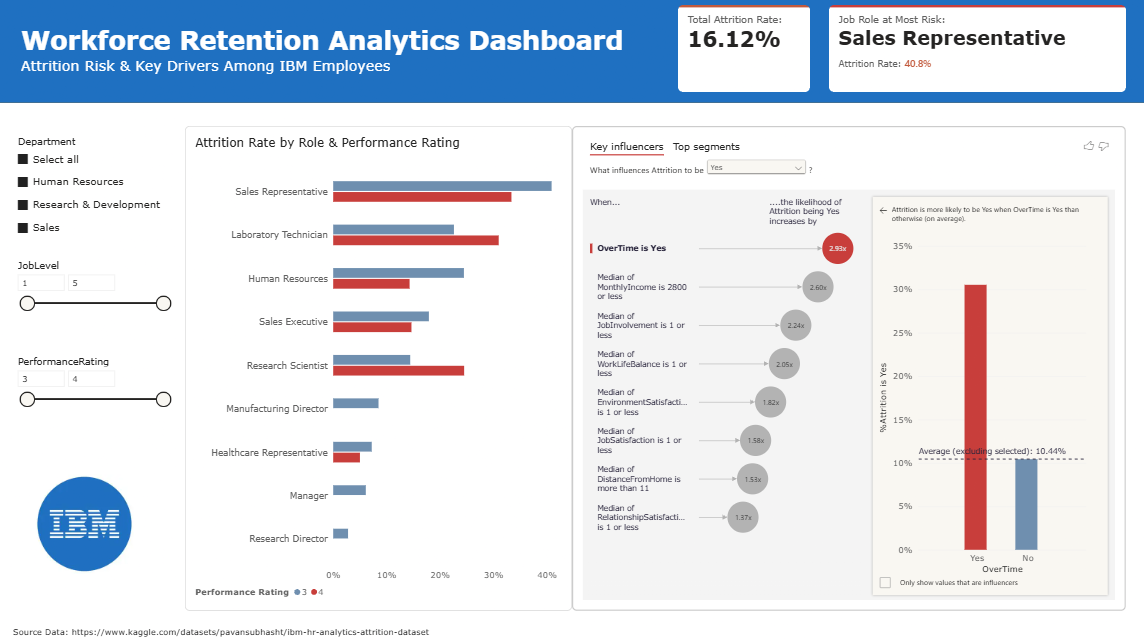

The page's visual inventory and layout, read from the dashboard file:
{"tool":"powerbi","page":{"name":"Attrition Distribution and Drivers","canvas":[1920,1080],"ordinal":0},"visuals":[{"type":"shape","box":[0,0,1920,178.3],"z":0},{"type":"clusteredBarChart","title":"Attrition Rate by Role & Performance Rating","fields":{"Category":["IBM_HR_Data_Ready.JobRole"],"Series":["IBM_HR_Data_Ready.PerformanceRating"],"Y":["IBM_HR_Data_Ready.Attrition_PCT"]},"box":[315,216.7,645,808.3],"z":1000},{"type":"slicer","fields":{"Values":["IBM_HR_Data_Ready.Department"]},"box":[28.3,231.7,266.7,185],"z":2000},{"type":"slicer","fields":{"Values":["IBM_HR_Data_Ready.JobLevel"]},"box":[28.3,438.3,266.7,160],"z":3000},{"type":"cardVisual","fields":{"Data":["IBM_HR_Data_Ready.AttritionPercentage"]},"box":[1136.5,14.6,220.3,145.9],"z":4000},{"type":"keyDriversVisual","fields":{"ExplainBy":["Median(IBM_HR_Data_Ready.DistanceFromHome)","Median(IBM_HR_Data_Ready.MonthlyIncome)","Median(IBM_HR_Data_Ready.JobInvolvement)","IBM_HR_Data_Ready.OverTime","Median(IBM_HR_Data_Ready.EnvironmentSatisfaction)","Median(IBM_HR_Data_Ready.JobSatisfaction)","Median(IBM_HR_Data_Ready.PercentSalaryHike)","Median(IBM_HR_Data_Ready.WorkLifeBalance)","IBM_HR_Data_Ready.StandardHours","Median(IBM_HR_Data_Ready.RelationshipSatisfaction)"],"Target":["IBM_HR_Data_Ready.Attrition"]},"box":[960,216.7,923.3,808.3],"z":5000},{"type":"slicer","fields":{"Values":["IBM_HR_Data_Ready.PerformanceRating"]},"box":[28.3,598.3,266.7,160],"z":6000},{"type":"cardVisual","fields":{"Data":["IBM_HR_Data_Ready.TopRoleInRisk"]},"box":[1388.3,15,495,145],"z":7000},{"type":"textbox","box":[40.9,46.7,1133.6,78.8],"z":9500},{"type":"image","box":[0,770,295,220],"z":9501},{"type":"textbox","box":[27.7,1051.9,1892.3,27.7],"z":9502},{"type":"textbox","box":[40.9,102.1,919.1,58.4],"z":9503}]}

Visuals, with their boxes in screenshot pixels (x1, y1, x2, y2), scaled from the page's 1920x1080 canvas onto the 1144x640 screenshot:
shape: 0 0 1143 106
"Attrition Rate by Role & Performance Rating" clusteredBarChart: 188 128 572 607
slicer - IBM_HR_Data_Ready.Department: 17 137 176 247
slicer - IBM_HR_Data_Ready.JobLevel: 17 260 176 355
cardVisual - IBM_HR_Data_Ready.AttritionPercentage: 677 9 808 95
keyDriversVisual - Median(IBM_HR_Data_Ready.DistanceFromHome) x Median(IBM_HR_Data_Ready.MonthlyIncome): 572 128 1122 607
slicer - IBM_HR_Data_Ready.PerformanceRating: 17 355 176 449
cardVisual - IBM_HR_Data_Ready.TopRoleInRisk: 827 9 1122 95
textbox: 24 28 700 74
image: 0 456 176 587
textbox: 17 623 1143 639
textbox: 24 61 572 95
